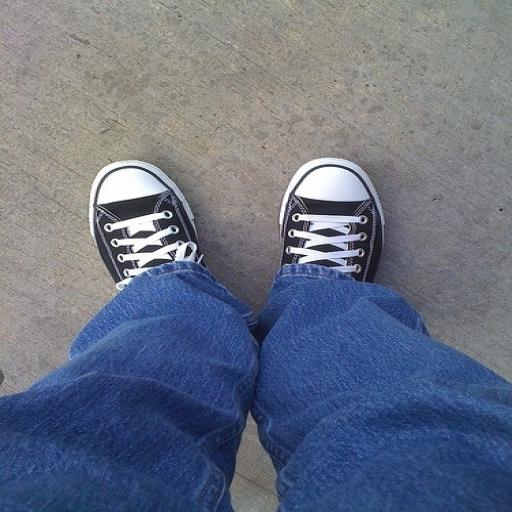shoe: (89, 161, 202, 290), (280, 158, 384, 282)
